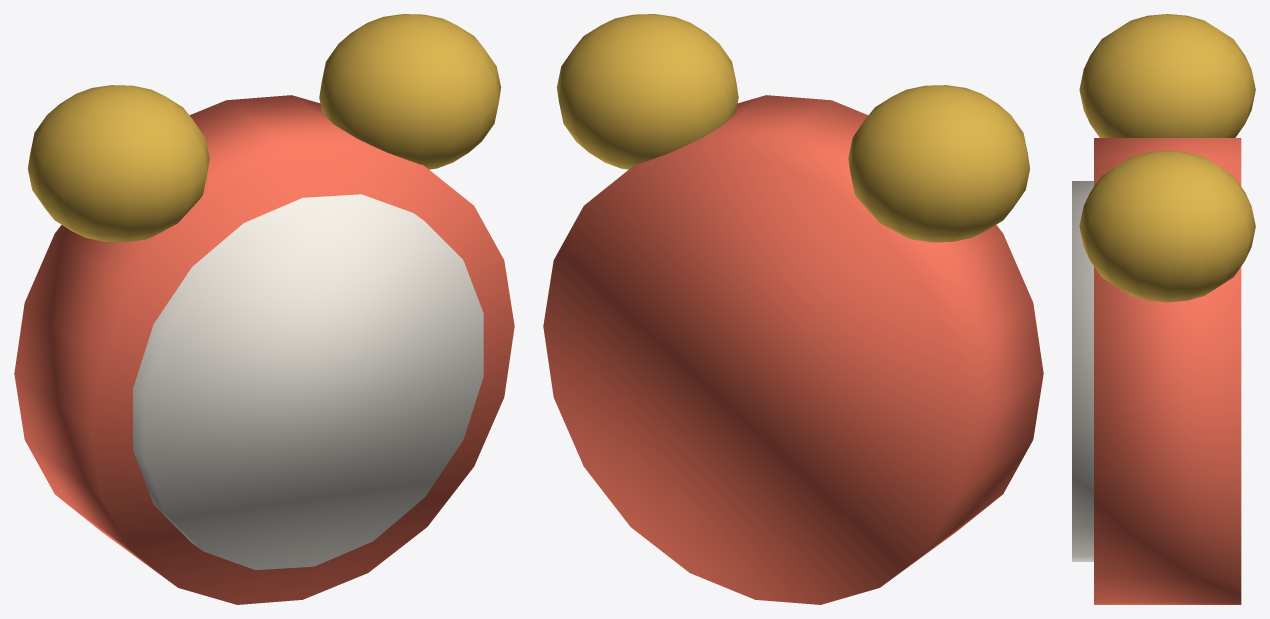
File: Decor_MiniClock.fbx
3 views of the same model, side by side, from view 1: azimuth 30°, elevation 25°; view 2: azimuth 150°, elevation 25°; view 3: azimuth 270°, elevation 25° (orthographic). The views are drawn at different scales.
Parts seen in each view (by area): view 1: Clock_Face, Clock_Body, Clock_Bell_-11, Clock_Bell_11; view 2: Clock_Body, Clock_Bell_-11, Clock_Bell_11; view 3: Clock_Body, Clock_Bell_11, Clock_Bell_-11, Clock_Face.
Part boxes in pixels (bbox=[...]): Clock_Face: bbox=[133, 194, 483, 569]; Clock_Body: bbox=[14, 95, 514, 604]; Clock_Bell_-11: bbox=[28, 85, 209, 242]; Clock_Bell_11: bbox=[319, 14, 501, 169]; Clock_Body: bbox=[543, 95, 1043, 604]; Clock_Bell_-11: bbox=[848, 85, 1029, 242]; Clock_Bell_11: bbox=[556, 14, 738, 169]; Clock_Body: bbox=[1094, 138, 1241, 604]; Clock_Bell_11: bbox=[1079, 150, 1255, 302]; Clock_Bell_-11: bbox=[1079, 14, 1255, 137]; Clock_Face: bbox=[1072, 181, 1093, 561].
Bounding box in the file's own units: 3.4 × 3.7 × 1.25.
